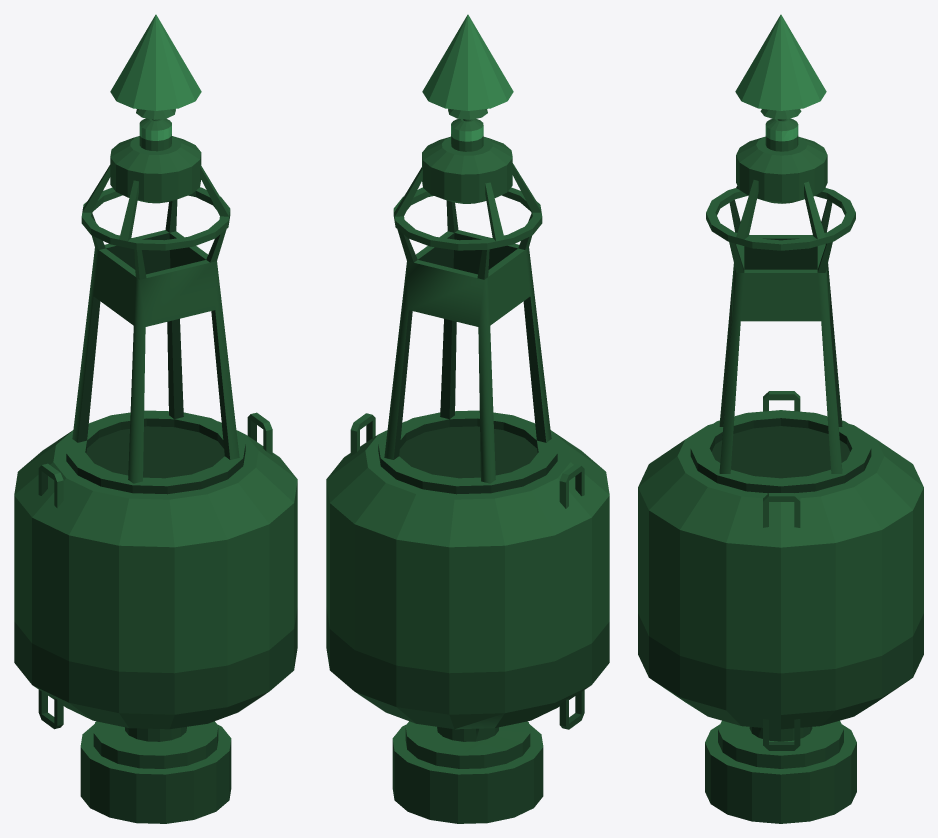
The model's file is a23_buoy_green.glb.
3 views of the same model, side by side, from view 1: azimuth 30°, elevation 25°; view 2: azimuth 150°, elevation 25°; view 3: azimuth 270°, elevation 25° (orthographic).
Parts seen in each view (by area): view 1: body; view 2: body; view 3: body.
Boxes of the visible parts, <box> form: body: <box>14,14,297,823</box>; body: <box>326,14,609,823</box>; body: <box>638,14,923,823</box>.
Bounding box in the file's own units: 1 × 3 × 1.
Materials: 2 (1 with a texture image).
